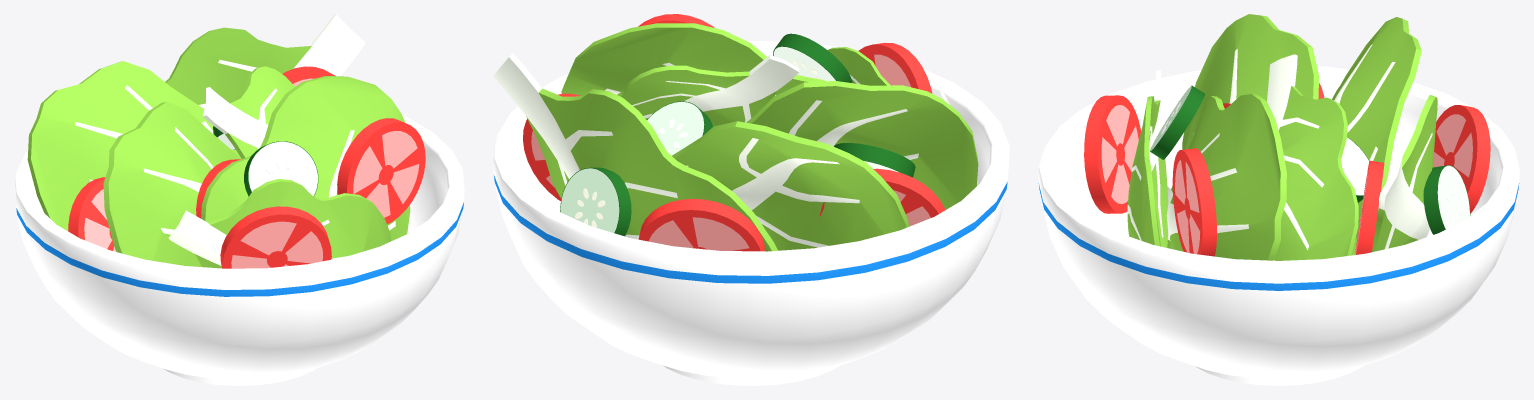
File: green_salad.gltf
The picture shows the model from 3 angles, left to right: view 1: azimuth 30°, elevation 25°; view 2: azimuth 150°, elevation 25°; view 3: azimuth 270°, elevation 25°; orthographic projection. The views are drawn at different scales.
Visible parts, largest first — view 1: Sphere.491; view 2: Sphere.491; view 3: Sphere.491.
Boxes of the visible parts, box(x1,y1,x2,y2) form: Sphere.491: box(14, 14, 464, 385); Sphere.491: box(493, 14, 1009, 385); Sphere.491: box(1038, 14, 1519, 385).
Bounding box in the file's own units: 2.25 × 1.43 × 2.25.
1 material, 1 textured.
